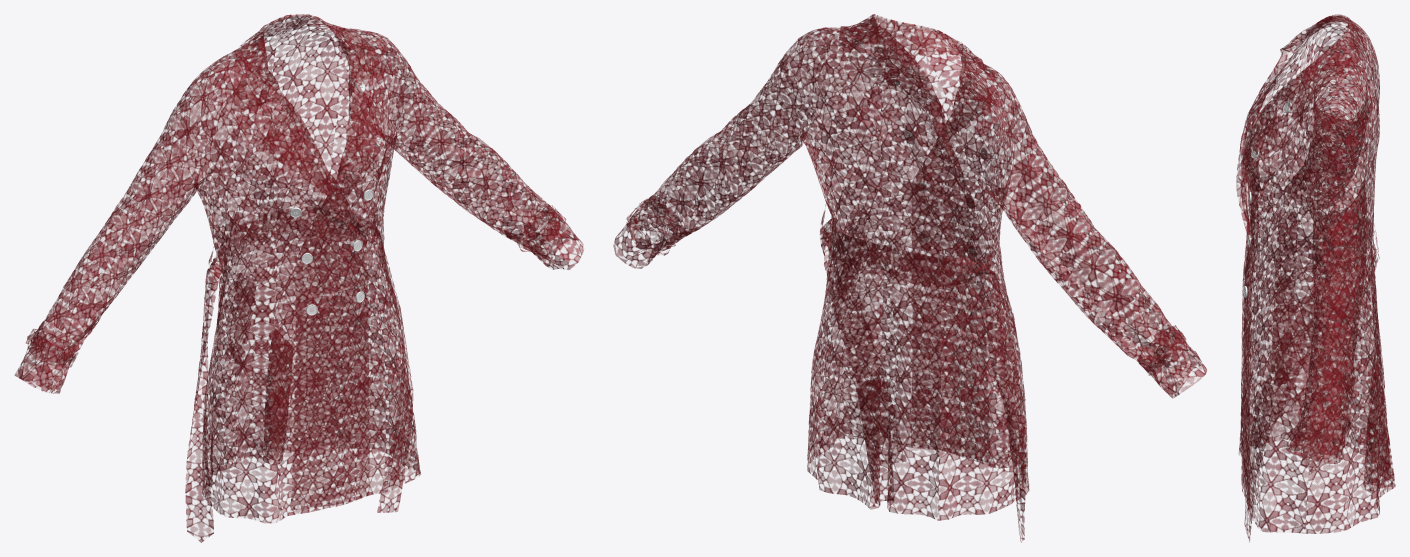
File: asset.gltf
3 renders of one model, left to right at view 1: azimuth 30°, elevation 25°; view 2: azimuth 150°, elevation 25°; view 3: azimuth 270°, elevation 25°, orthographic. The views are drawn at different scales.
Parts seen in each view (by area): view 1: Cloth; view 2: Cloth; view 3: Cloth.
Boxes of the visible parts, left/top/right/bottom form: Cloth: left=14, top=14, right=583, bottom=542; Cloth: left=613, top=14, right=1206, bottom=542; Cloth: left=1236, top=14, right=1395, bottom=541.
Bounding box in the file's own units: 1.13 × 0.9409 × 0.2719.
2 materials, 2 textured.
